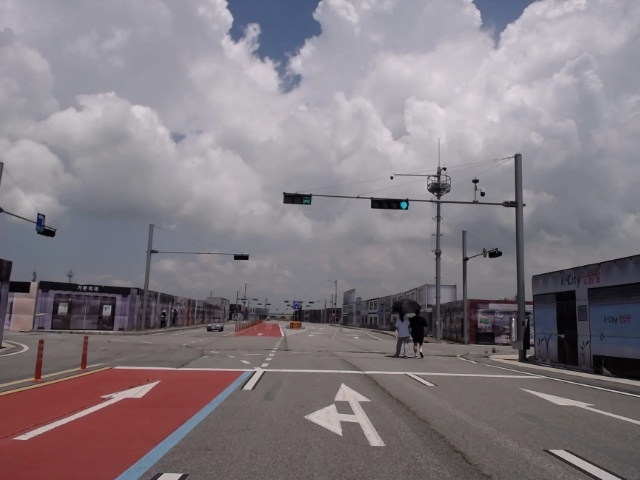straight_green_4: (371, 198, 410, 210)
